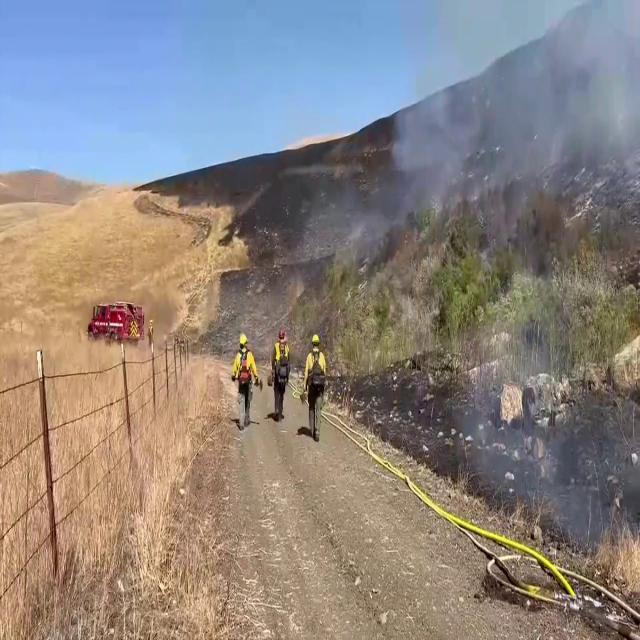Smoke: (387, 0, 640, 228)
